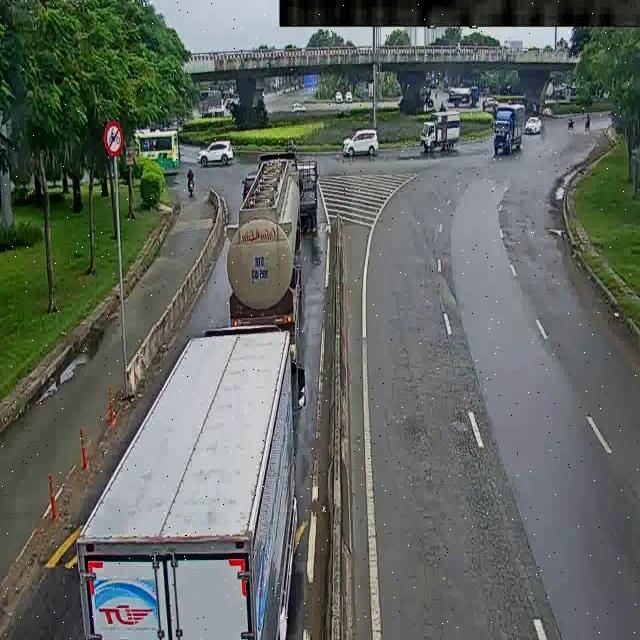bus: (131, 123, 193, 177)
car: (193, 132, 230, 166), (337, 126, 380, 155), (527, 112, 547, 143)
motorbike: (179, 163, 203, 209), (584, 108, 599, 141), (566, 113, 577, 138)
truck: (71, 326, 414, 640), (232, 145, 333, 319), (416, 107, 465, 169), (488, 102, 530, 167), (448, 82, 479, 109)
